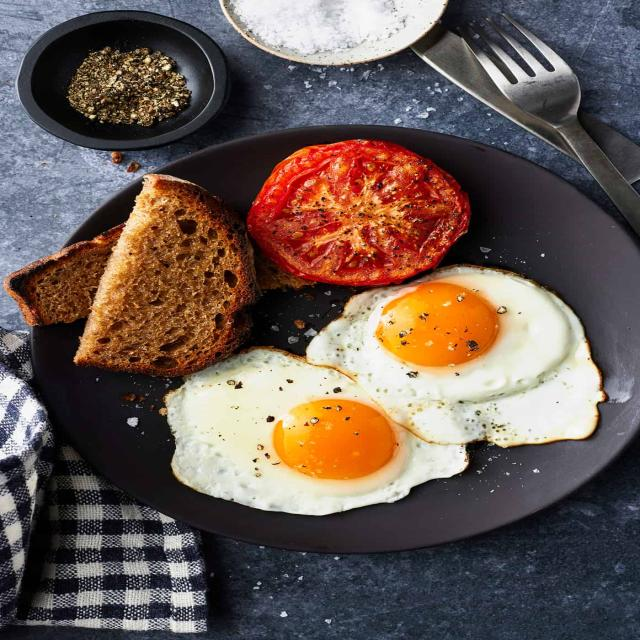Bread: (75, 174, 258, 377)
Egg: (307, 265, 604, 446), (165, 348, 468, 515)
